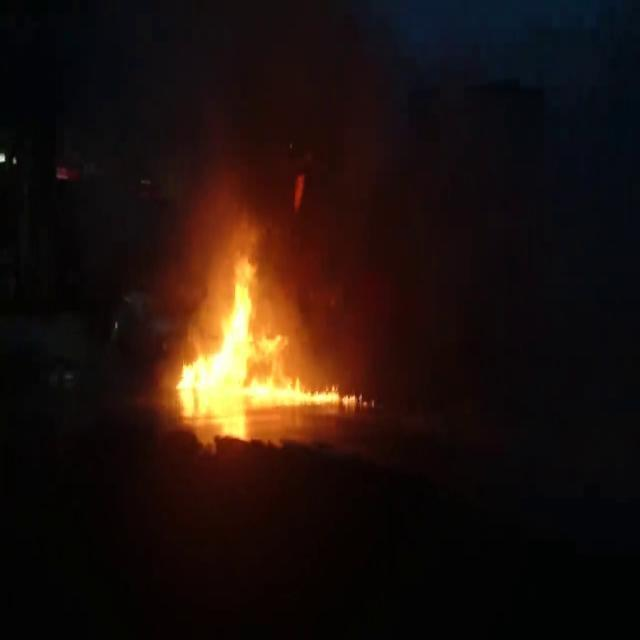Fire: (175, 260, 368, 401)
Smoke: (190, 148, 273, 244)
